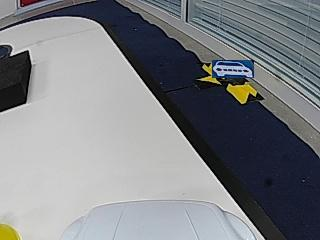block: (0, 52, 30, 112)
